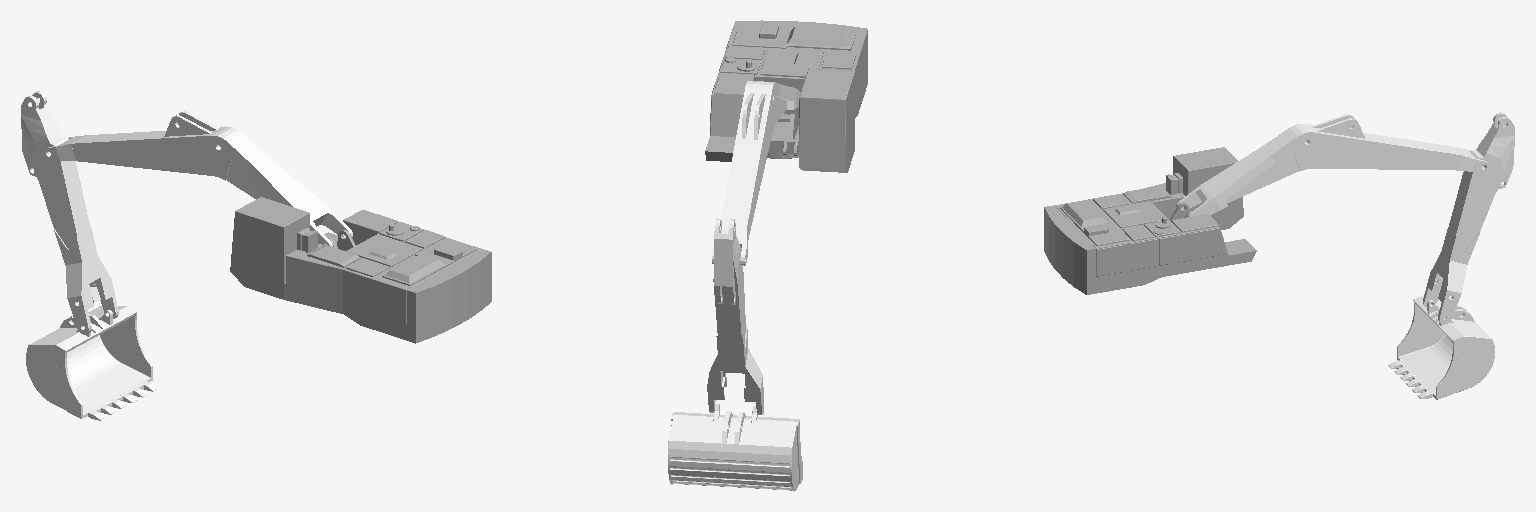
The robot description file, URDF, robot "excavator1":
<?xml version="1.0" encoding="utf-8"?>
<!-- This URDF was automatically created by SolidWorks to URDF Exporter! Originally created by [author] ([email redacted]) 
     Commit Version: 1.5.1-0-g916b5db  Build Version: 1.5.7152.31018
     For more information, please see http://wiki.ros.org/sw_urdf_exporter -->
<robot
  name="excavator1">
  <link
    name="base_link">
    <inertial>
      <origin
        xyz="0.0071989 -0.11792 -1.3696"
        rpy="0 0 0" />
      <mass
        value="1584.9" />
      <inertia
        ixx="2199.8"
        ixy="142.09"
        ixz="1.5171"
        iyy="1903.1"
        iyz="-3.7756"
        izz="3789.3" />
    </inertial>
    <visual>
      <origin
        xyz="0 0 0"
        rpy="0 0 0" />
      <geometry>
        <mesh
          filename="package://excavator1/meshes/base_link.STL" />
      </geometry>
      <material
        name="">
        <color
          rgba="0.75294 0.75294 0.75294 1" />
      </material>
    </visual>
    <collision>
      <origin
        xyz="0 0 0"
        rpy="0 0 0" />
      <geometry>
        <mesh
          filename="package://excavator1/meshes/base_link.STL" />
      </geometry>
    </collision>
  </link>
  <link
    name="huizhuantai">
    <inertial>
      <origin
        xyz="-0.033183 -0.98161 -0.29422"
        rpy="0 0 0" />
      <mass
        value="4155.4" />
      <inertia
        ixx="3529.1"
        ixy="203.56"
        ixz="1.8362"
        iyy="1890.9"
        iyz="99.215"
        izz="4823.8" />
    </inertial>
    <visual>
      <origin
        xyz="0 0 0"
        rpy="0 0 0" />
      <geometry>
        <mesh
          filename="package://excavator1/meshes/huizhuantai.STL" />
      </geometry>
      <material
        name="">
        <color
          rgba="0.75294 0.75294 0.75294 1" />
      </material>
    </visual>
    <collision>
      <origin
        xyz="0 0 0"
        rpy="0 0 0" />
      <geometry>
        <mesh
          filename="package://excavator1/meshes/huizhuantai.STL" />
      </geometry>
    </collision>
  </link>
  <joint
    name="joint1"
    type="continuous">
    <origin
      xyz="0 -0.1 0"
      rpy="0 0 0.39" />
    <parent
      link="base_link" />
    <child
      link="huizhuantai" />
    <axis
      xyz="0 0 -1" />
    <limit
      lower="-3.14"
      upper="3.14"
      effort="100"
      velocity="1" />
  </joint>
  <link
    name="dongbi">
    <inertial>
      <origin
        xyz="-8.6042E-15 2.7656 0.58457"
        rpy="0 0 0" />
      <mass
        value="1139.2" />
      <inertia
        ixx="2254.3"
        ixy="-2.1424E-12"
        ixz="1.1527E-12"
        iyy="117.73"
        iyz="110.05"
        izz="2173.1" />
    </inertial>
    <visual>
      <origin
        xyz="0 0 0"
        rpy="0 0 0" />
      <geometry>
        <mesh
          filename="package://excavator1/meshes/dongbi.STL" />
      </geometry>
      <material
        name="">
        <color
          rgba="1 1 1 1" />
      </material>
    </visual>
    <collision>
      <origin
        xyz="0 0 0"
        rpy="0 0 0" />
      <geometry>
        <mesh
          filename="package://excavator1/meshes/dongbi.STL" />
      </geometry>
    </collision>
  </link>
  <joint
    name="joint2"
    type="revolute">
    <origin
      xyz="0 0.1 0"
      rpy="0 0 0" />
    <parent
      link="huizhuantai" />
    <child
      link="dongbi" />
    <axis
      xyz="1 0 0" />
    <limit
      lower="-0.8"
      upper="1.1"
      effort="100"
      velocity="1" />
  </joint>
  <link
    name="dougan">
    <inertial>
      <origin
        xyz="-1.0658E-14 0.8525 0.13673"
        rpy="0 0 0" />
      <mass
        value="588.48" />
      <inertia
        ixx="532.28"
        ixy="1.0556E-11"
        ixz="-9.9536E-13"
        iyy="30.031"
        iyz="47.289"
        izz="525.77" />
    </inertial>
    <visual>
      <origin
        xyz="0 0 0"
        rpy="0 0 0" />
      <geometry>
        <mesh
          filename="package://excavator1/meshes/dougan.STL" />
      </geometry>
      <material
        name="">
        <color
          rgba="1 1 1 1" />
      </material>
    </visual>
    <collision>
      <origin
        xyz="0 0 0"
        rpy="0 0 0" />
      <geometry>
        <mesh
          filename="package://excavator1/meshes/dougan.STL" />
      </geometry>
    </collision>
  </link>
  <joint
    name="joint3"
    type="revolute">
    <origin
      xyz="0 5.7 0"
      rpy="0 0 0" />
    <parent
      link="dongbi" />
    <child
      link="dougan" />
    <axis
      xyz="1 0 0" />
    <limit
      lower="-3"
      upper="-0.71"
      effort="100"
      velocity="1" />
  </joint>
  <link
    name="chandou">
    <inertial>
      <origin
        xyz="0.63243 0.41031 6.275E-07"
        rpy="0 0 0" />
      <mass
        value="285.1" />
      <inertia
        ixx="135.44"
        ixy="12.871"
        ixz="0.0021997"
        iyy="173.33"
        iyz="-0.0023352"
        izz="90.525" />
    </inertial>
    <visual>
      <origin
        xyz="0 0 0"
        rpy="0 0 0" />
      <geometry>
        <mesh
          filename="package://excavator1/meshes/chandou.STL" />
      </geometry>
      <material
        name="">
        <color
          rgba="1 1 1 1" />
      </material>
    </visual>
    <collision>
      <origin
        xyz="0 0 0"
        rpy="0 0 0" />
      <geometry>
        <mesh
          filename="package://excavator1/meshes/chandou.STL" />
      </geometry>
    </collision>
  </link>
  <joint
    name="joint4"
    type="revolute">
    <origin
      xyz="0 2.925 0"
      rpy="1.5708 0 1.5708" />
    <parent
      link="dougan" />
    <child
      link="chandou" />
    <axis
      xyz="0 0 1" />
    <limit
      lower="-2.72"
      upper="0.6"
      effort="100"
      velocity="1" />
  </joint>
</robot>

--- Render facts (derived) ---
The picture shows the robot from 3 angles, left to right: view 1: azimuth 30°, elevation 25°; view 2: azimuth 150°, elevation 25°; view 3: azimuth 270°, elevation 25°; orthographic projection.
Robot: excavator1 — 5 links, 4 joints (3 revolute, 1 continuous); root link base_link; default pose: joints at zero except 1 at the middle of their limits (joint3 = -1.85).
Visible links, largest first — view 1: huizhuantai, dongbi, chandou, dougan; view 2: huizhuantai, chandou, dongbi, dougan; view 3: huizhuantai, dongbi, chandou, dougan.
Boxes of the visible links, box(x1,y1,x2,y2) form: huizhuantai: box(230, 197, 491, 343); dongbi: box(44, 111, 352, 246); chandou: box(26, 306, 157, 420); dougan: box(21, 91, 118, 334); huizhuantai: box(705, 20, 867, 172); chandou: box(668, 401, 802, 491); dongbi: box(712, 81, 800, 265); dougan: box(707, 218, 763, 414); huizhuantai: box(1044, 147, 1256, 294); dongbi: box(1176, 114, 1488, 216); chandou: box(1388, 295, 1494, 399); dougan: box(1423, 112, 1514, 323).
Bounding box of the posed robot: 4.83 × 8.51 × 5.51 m (x, y, z).
Meshes: 5 distinct files referenced, 4 mesh visuals loaded (4 binary STL); not drawn: 1 (reference not matched to a file when rendering).
